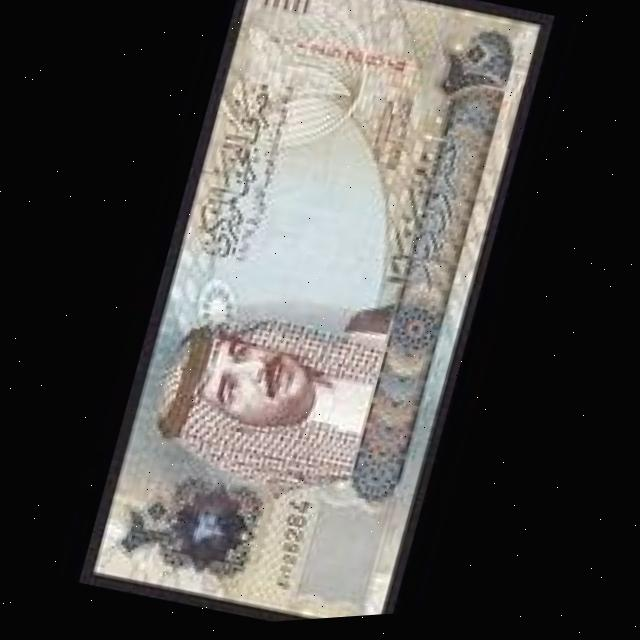banknote: (78, 0, 548, 636)
